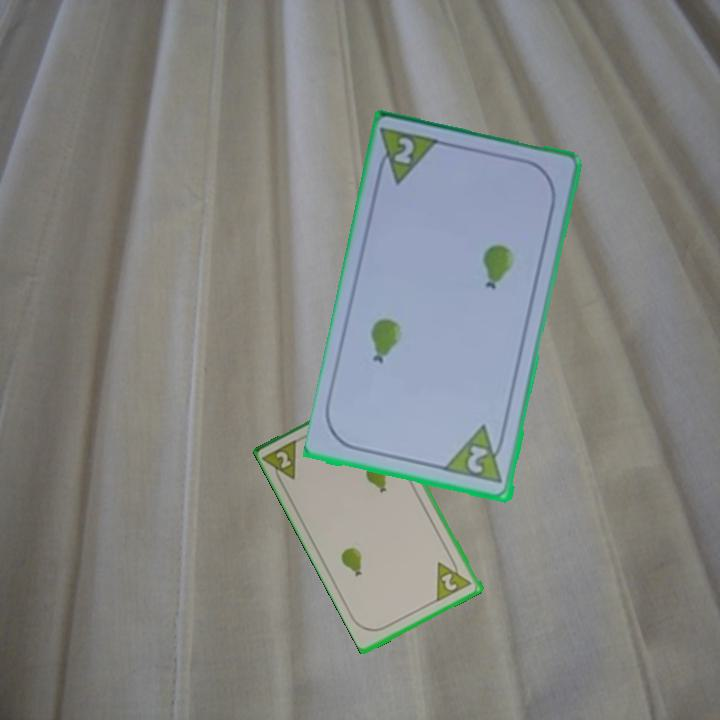2p: (261, 435, 303, 490), (433, 552, 475, 604), (463, 442, 491, 477), (390, 133, 418, 168)
